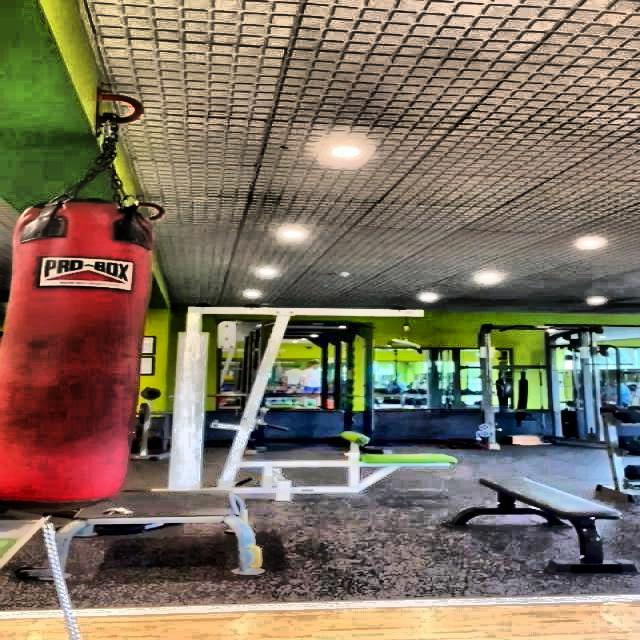boxing-bag: (0, 91, 147, 517)
